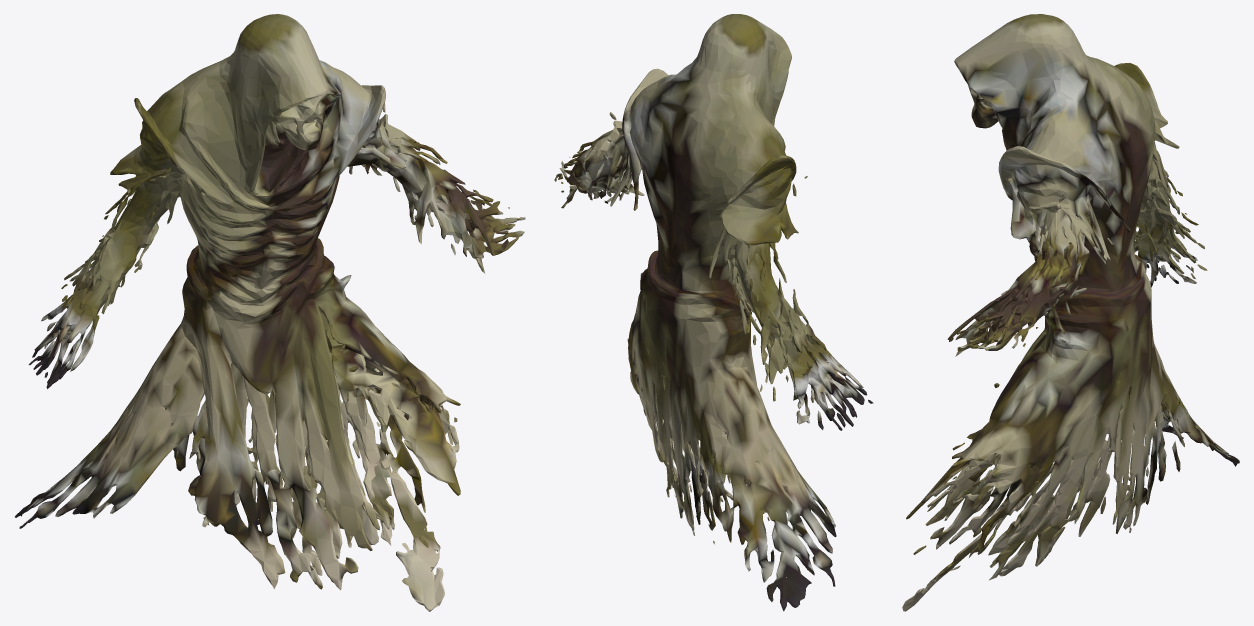
Rendered from yaksha.glb.
3 renders of one model, left to right at view 1: azimuth 30°, elevation 25°; view 2: azimuth 150°, elevation 25°; view 3: azimuth 270°, elevation 25°, orthographic. The views are drawn at different scales.
Parts seen in each view (by area): view 1: world; view 2: world; view 3: world.
Part boxes in pixels (x1=…): world: x1=15, y1=14, x2=525, y2=611; world: x1=554, y1=14, x2=873, y2=611; world: x1=902, y1=14, x2=1239, y2=611.
Size of the model in its own units: 0.7592 by 1 by 0.5515.
